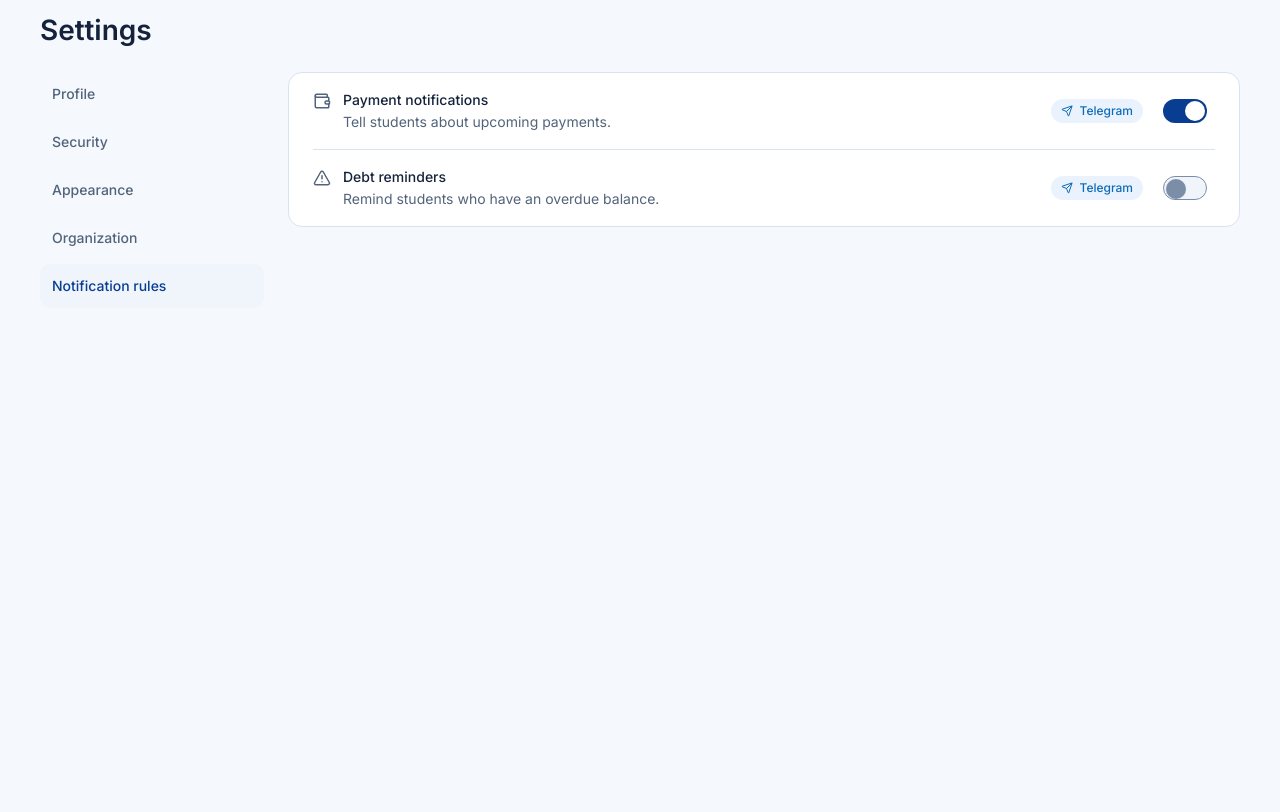
Test: Notification rules section › reverts the switch and reports the failure when the save is rejected
Step 1. Click the switch named "Payment notifications" → (1185, 111), box [1155, 89, 1215, 133]
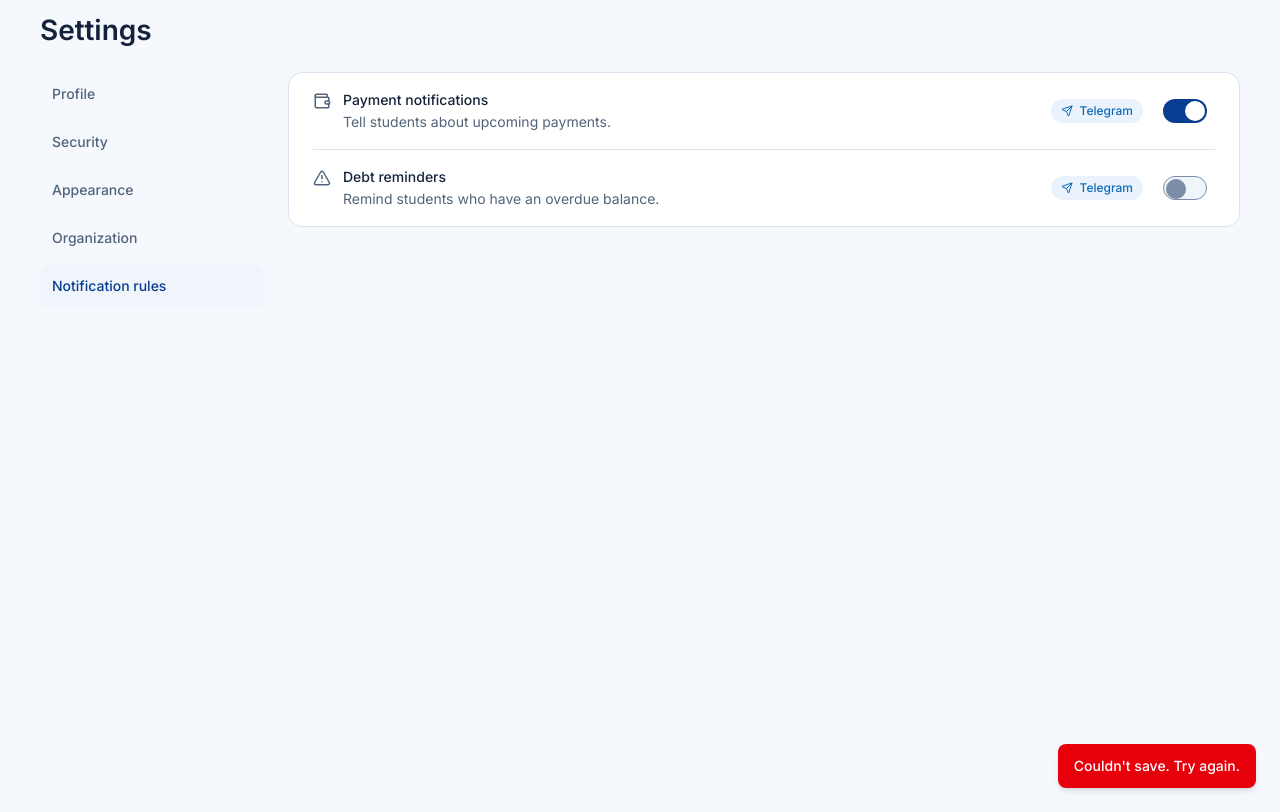
Now the text "Couldn't save. Try again." is shown, box [1058, 744, 1256, 788]
